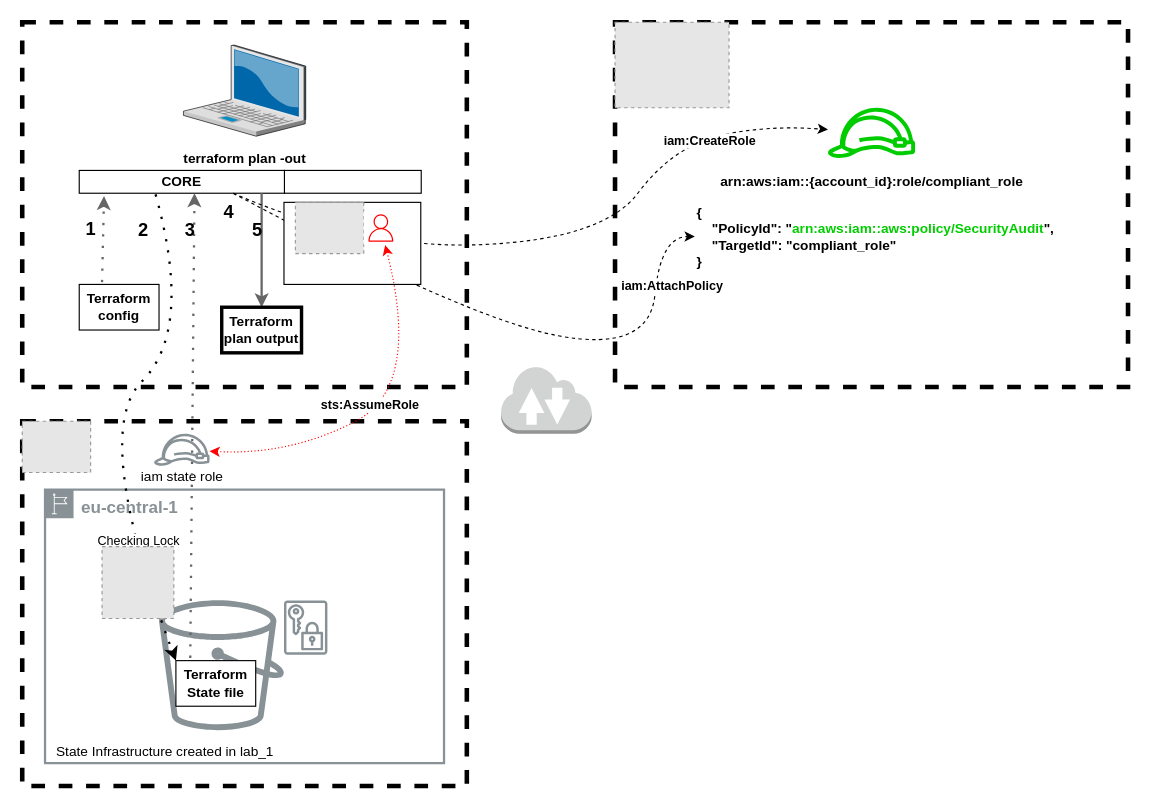
Image size: 1149x807. Some labels were removed from this diagram. Grey dashed boxes stand in for pictures. The centre of each missing label's shape, as x and y in pixels:
IAM User: (380,227)
PROVIDER: (352,181)
